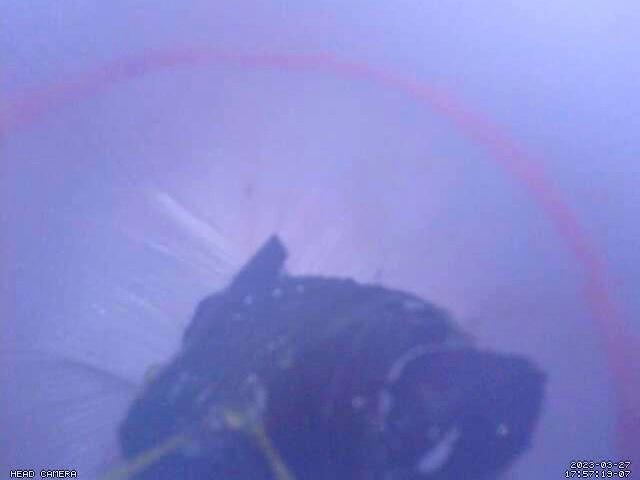head: (0, 44, 640, 479)
